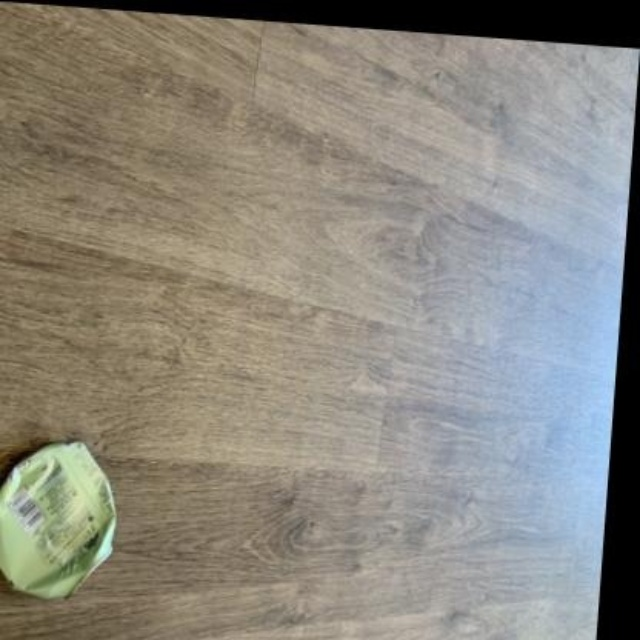trash: (0, 443, 115, 597)
